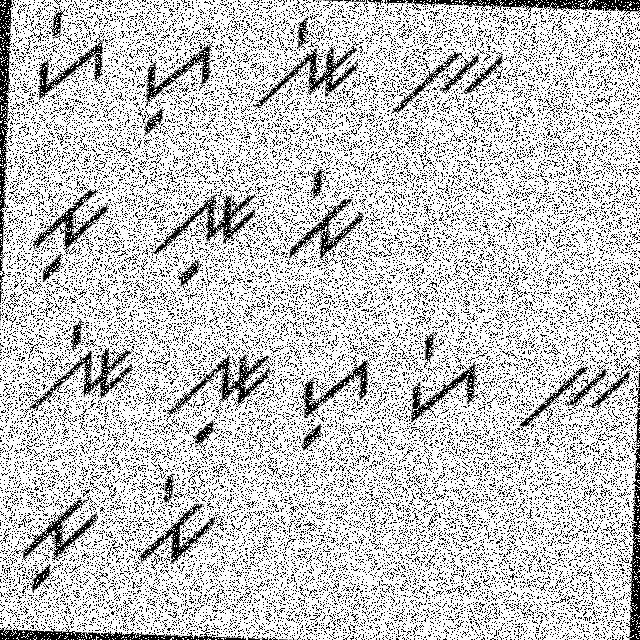he: (406, 324, 486, 430), (30, 5, 111, 104)
hu: (288, 355, 379, 463), (132, 37, 222, 138)
mbe: (275, 162, 368, 267), (133, 470, 222, 574)
mbu: (10, 490, 104, 598), (24, 174, 114, 286)
nde: (13, 307, 144, 418), (246, 10, 368, 120)
ndu: (156, 336, 279, 452), (144, 180, 262, 294)
